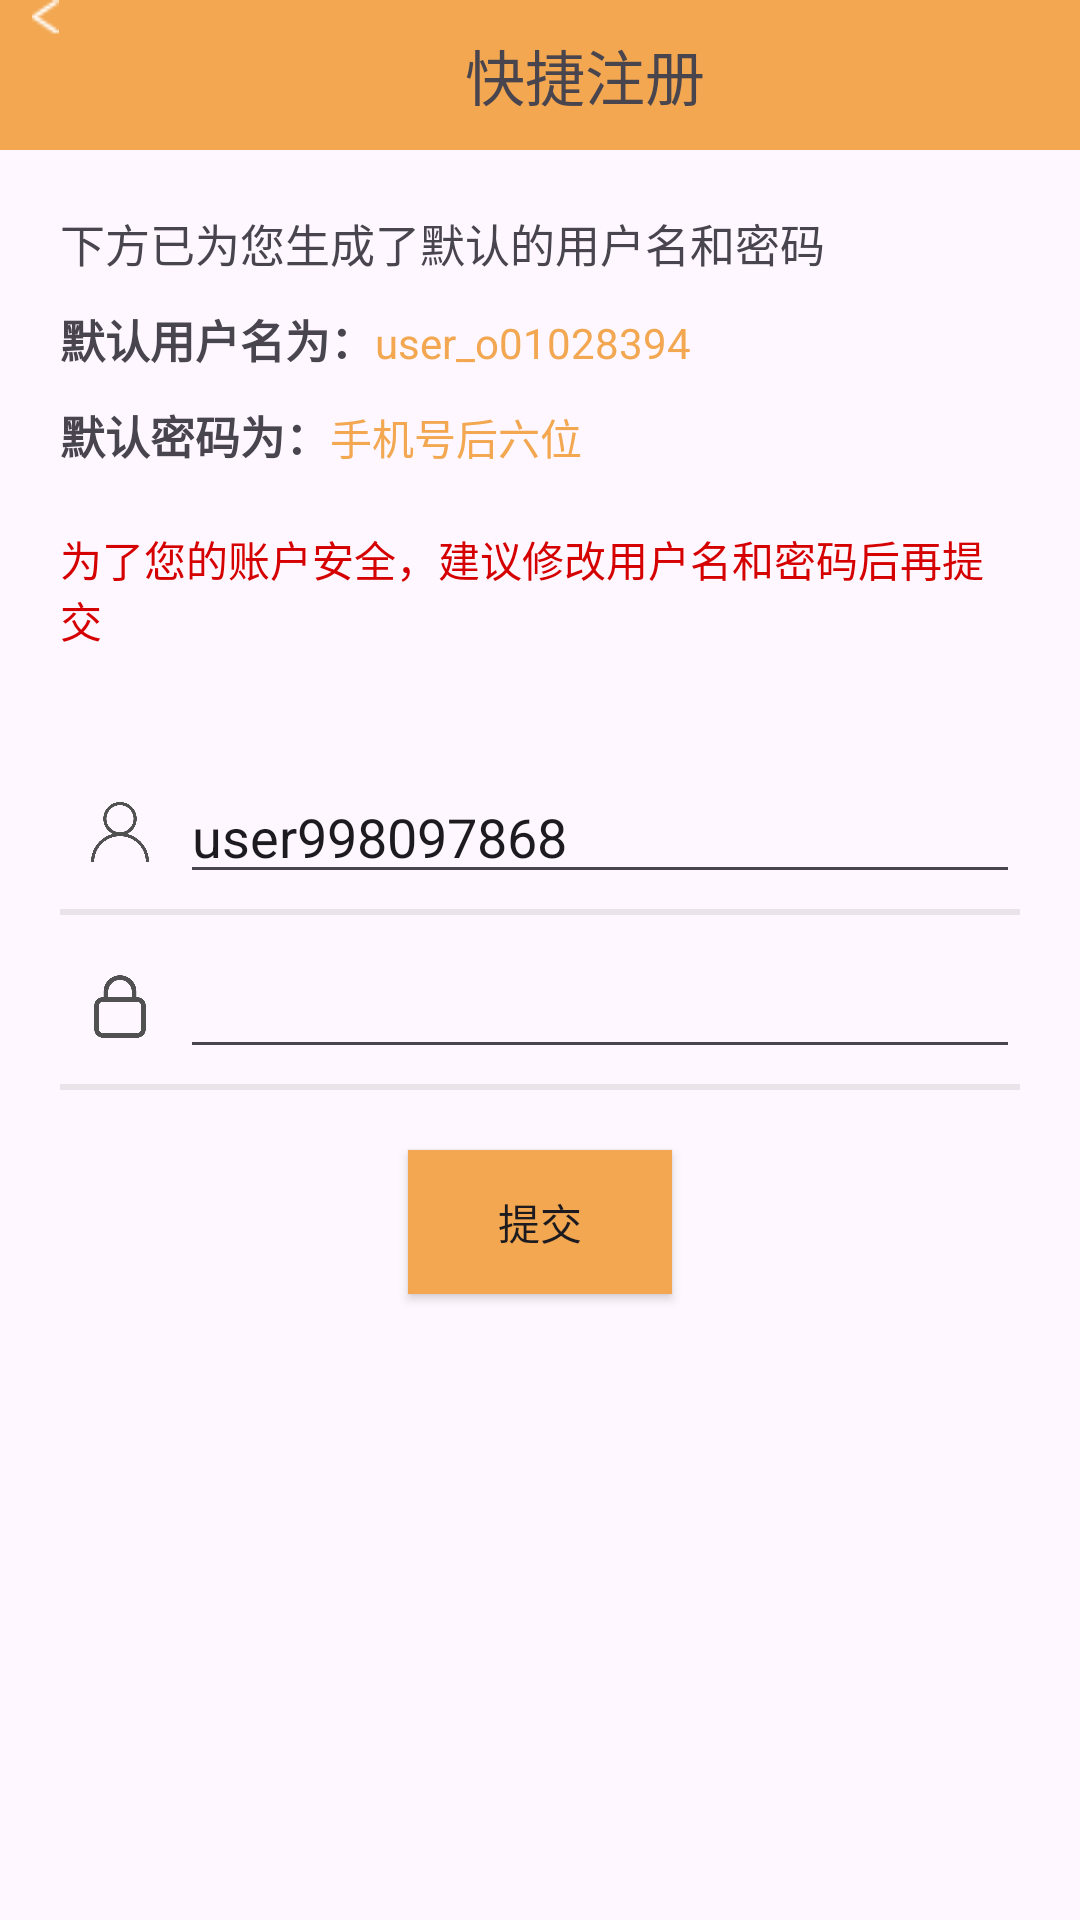

Locate icon controls on the screen. Image size 1080x1920, boxes as box(x1, y1, x2, y2).
back: box(32, 0, 59, 34)
password onclick: box(94, 975, 146, 1038)
username onclick: box(91, 802, 149, 862)
